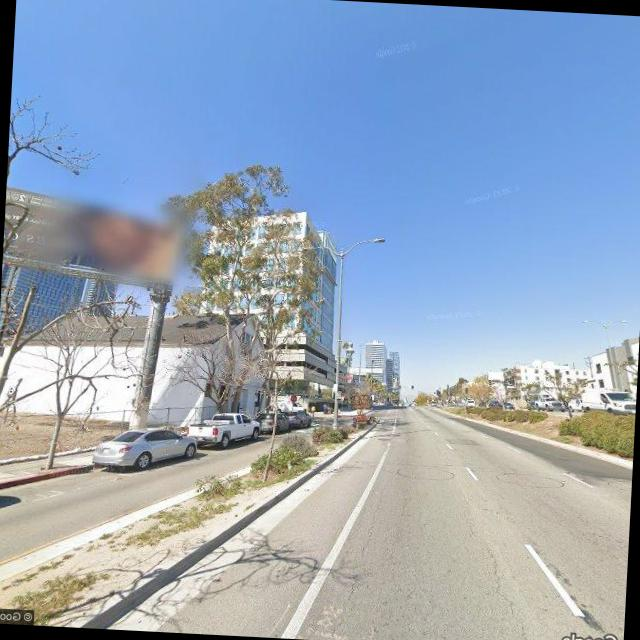crack: (459, 513, 553, 640)
